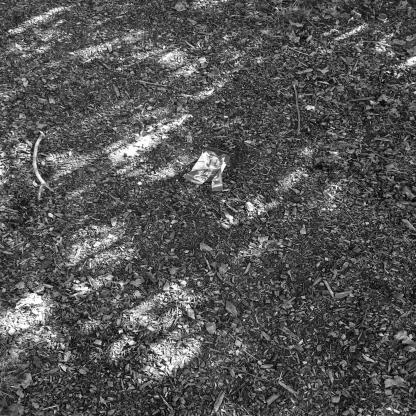plastic: (186, 148, 231, 193)
